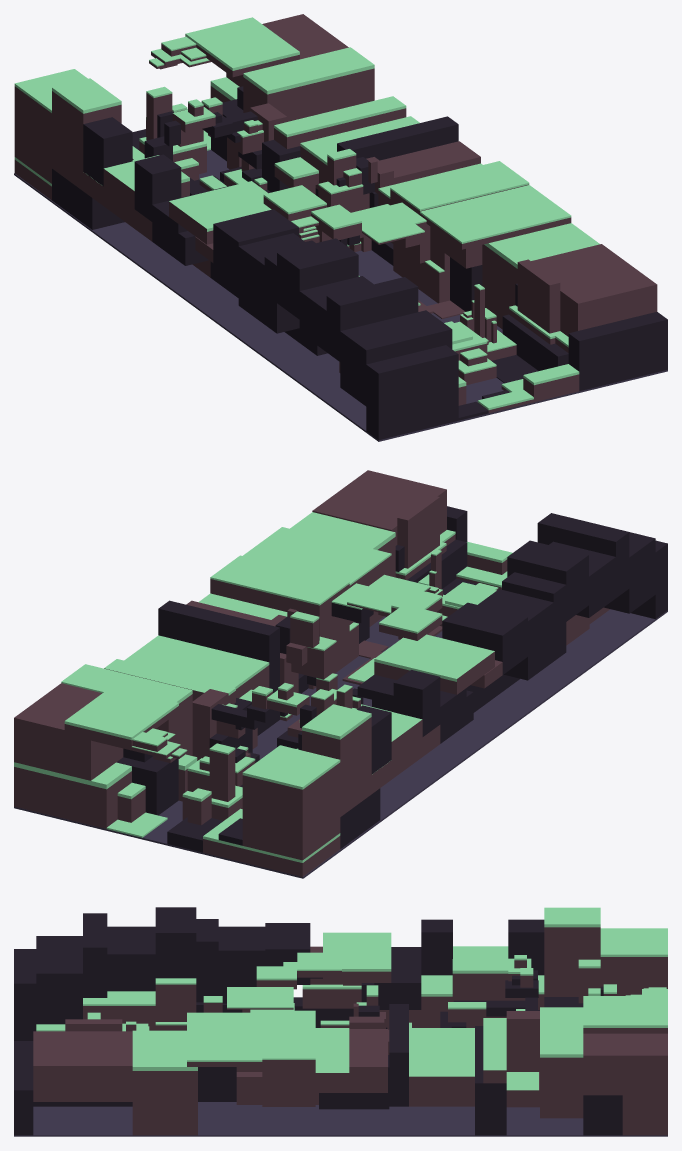
The model's file is mapa.fbx.
3 views of the same model, one above another, from view 1: azimuth 30°, elevation 25°; view 2: azimuth 150°, elevation 25°; view 3: azimuth 270°, elevation 25° (orthographic). The views are drawn at different scales.
Visible parts, largest first — view 1: Cube.001, Cube.155, Cube.146, Cube.165, Cube.145, Cube.159, Cube.154, Cube.123, Cube.171, Cube.101, Cube.188, Cube.156 (+38 smaller); view 2: Cube.001, Cube.174, Cube.182, Cube.101, Cube.181, Cube.177, Cube.171, Cube.159, Cube.146, Cube.053, Cube.039, Cube.188 (+42 smaller); view 3: Cube.001, Cube.146, Cube.123, Cube.182, Cube.101, Cube.039, Cube.165, Cube.171, Cube.174, Cube.159, Cube.154, Cube.122 (+43 smaller).
Part boxes in pixels (x1=…): Cube.001: x1=14, y1=150, x2=667, y2=441; Cube.155: x1=366, y1=345, x2=458, y2=439; Cube.146: x1=531, y1=244, x2=657, y2=336; Cube.165: x1=243, y1=47, x2=374, y2=121; Cube.145: x1=568, y1=312, x2=667, y2=391; Cube.159: x1=420, y1=185, x2=571, y2=249; Cube.154: x1=340, y1=310, x2=452, y2=406; Cube.123: x1=482, y1=223, x2=599, y2=329; Cube.171: x1=52, y1=78, x2=121, y2=190; Cube.101: x1=390, y1=161, x2=529, y2=263; Cube.188: x1=185, y1=17, x2=299, y2=77; Cube.156: x1=326, y1=277, x2=418, y2=361; Cube.001: x1=14, y1=609, x2=667, y2=878; Cube.174: x1=242, y1=745, x2=340, y2=860; Cube.182: x1=14, y1=683, x2=123, y2=780; Cube.101: x1=210, y1=555, x2=349, y2=645; Cube.181: x1=14, y1=762, x2=131, y2=828; Cube.177: x1=158, y1=600, x2=279, y2=692; Cube.171: x1=302, y1=704, x2=371, y2=816; Cube.159: x1=243, y1=527, x2=391, y2=587; Cube.146: x1=312, y1=470, x2=446, y2=545; Cube.053: x1=374, y1=634, x2=494, y2=694; Cube.039: x1=124, y1=635, x2=269, y2=698; Cube.188: x1=64, y1=686, x2=178, y2=746; Cube.001: x1=14, y1=1102, x2=667, y2=1136; Cube.146: x1=33, y1=1031, x2=132, y2=1101; Cube.123: x1=132, y1=1030, x2=197, y2=1135; Cube.182: x1=583, y1=1033, x2=667, y2=1095; Cube.101: x1=262, y1=1010, x2=315, y2=1106; Cube.039: x1=409, y1=1028, x2=474, y2=1106; Cube.165: x1=540, y1=1007, x2=583, y2=1118; Cube.171: x1=544, y1=907, x2=600, y2=996; Cube.174: x1=600, y1=928, x2=667, y2=995; Cube.159: x1=187, y1=1012, x2=262, y2=1066; Cube.154: x1=36, y1=936, x2=82, y2=1024; Cube.122: x1=107, y1=926, x2=155, y2=991.
Size of the model in its own units: 10041 by 3807 by 21925.
